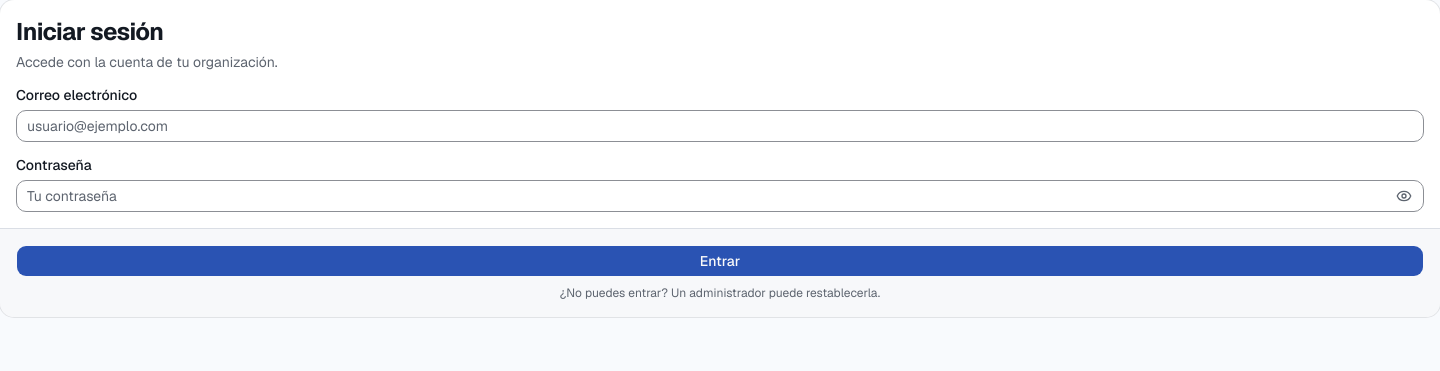
FormularioLogin › limpia el error al escribir de nuevo
In the field labelled "Correo electrónico": point(720, 126) [16,110,1424,142], type "admin@example.com"
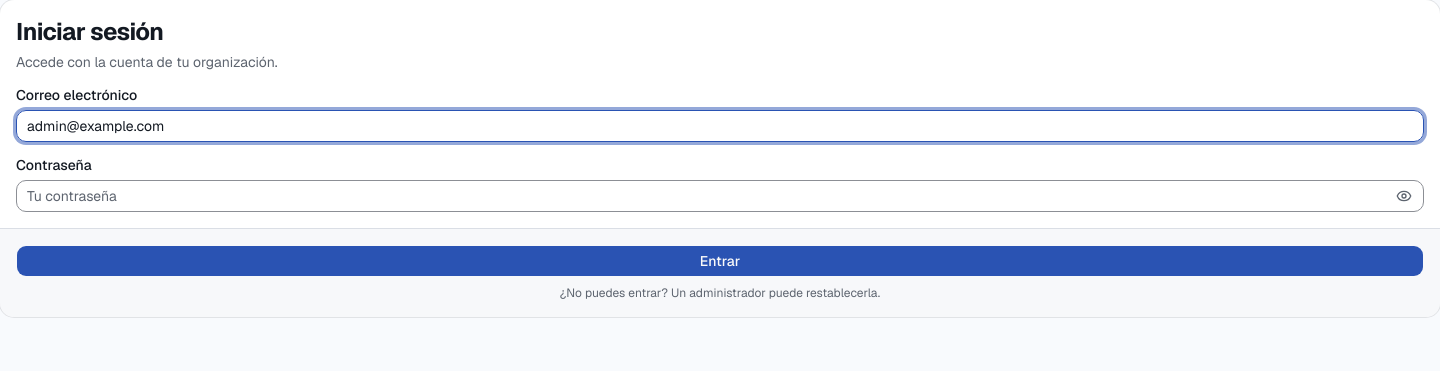
In the password field labelled "Contraseña": point(720, 196) [16,180,1424,212], type "incorrecta"
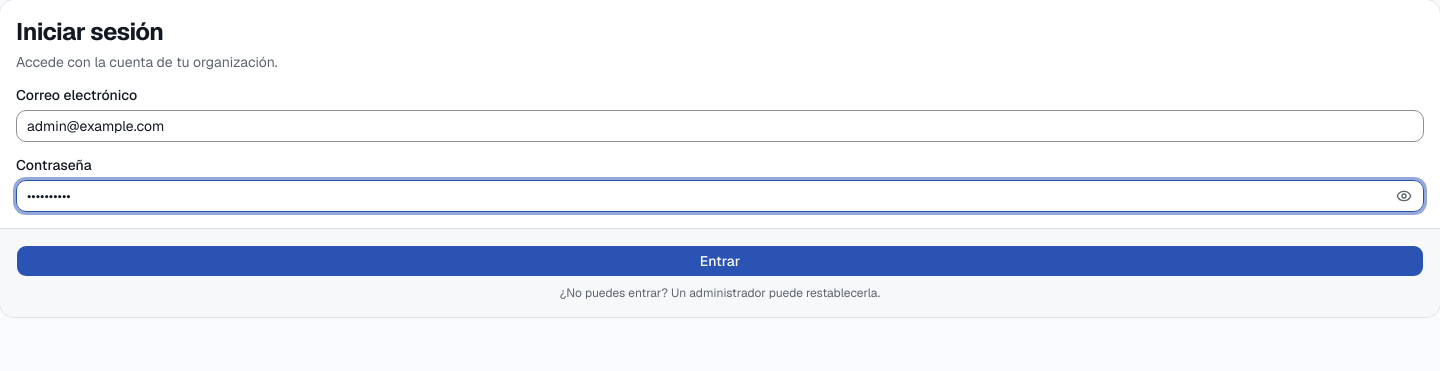
Click the button "Entrar": point(720, 261) [16,245,1424,277]
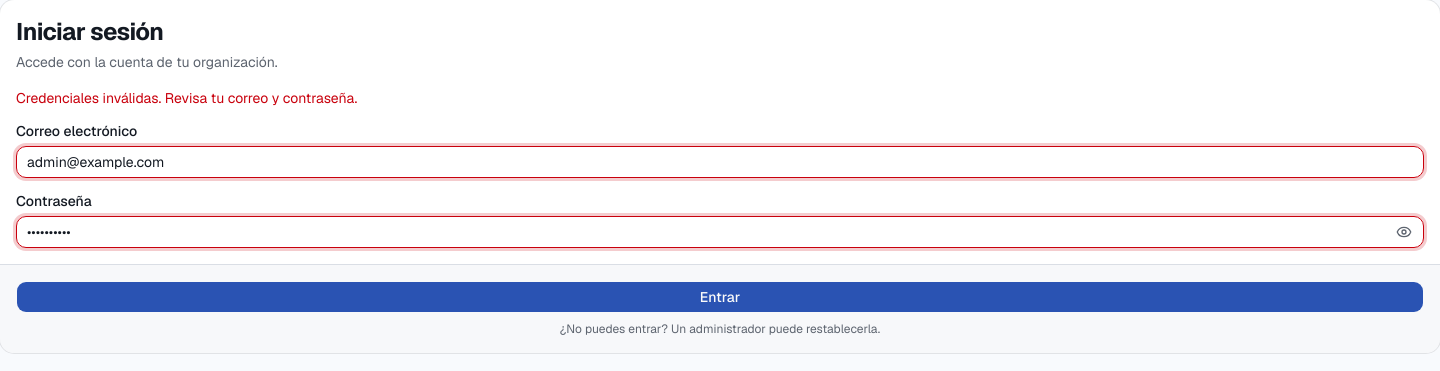
Check: the message "Credenciales inválidas. Revisa tu correo y contraseña." is shown, box [16,89,357,107]
In the field labelled "Correo electrónico": point(720, 162) [16,146,1424,178], type "x"
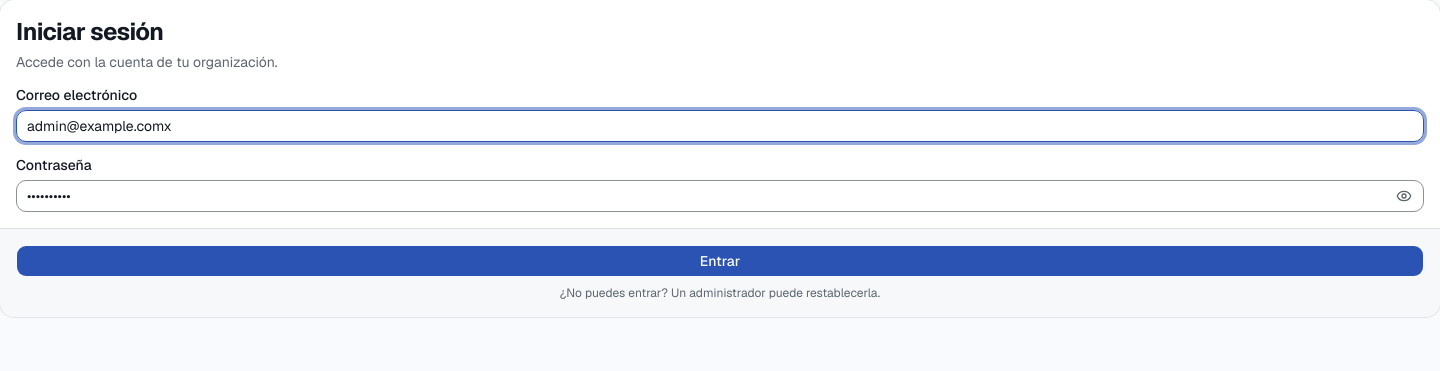
Check: the message "Credenciales inválidas. Revisa tu correo y contraseña." is gone
